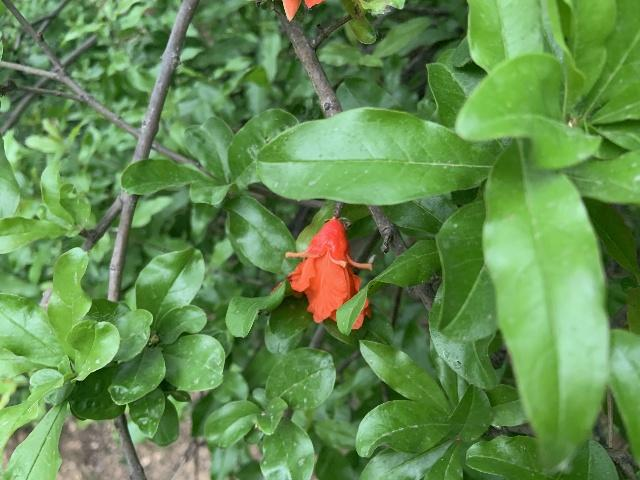flower: (282, 216, 372, 328), (281, 0, 326, 21)
